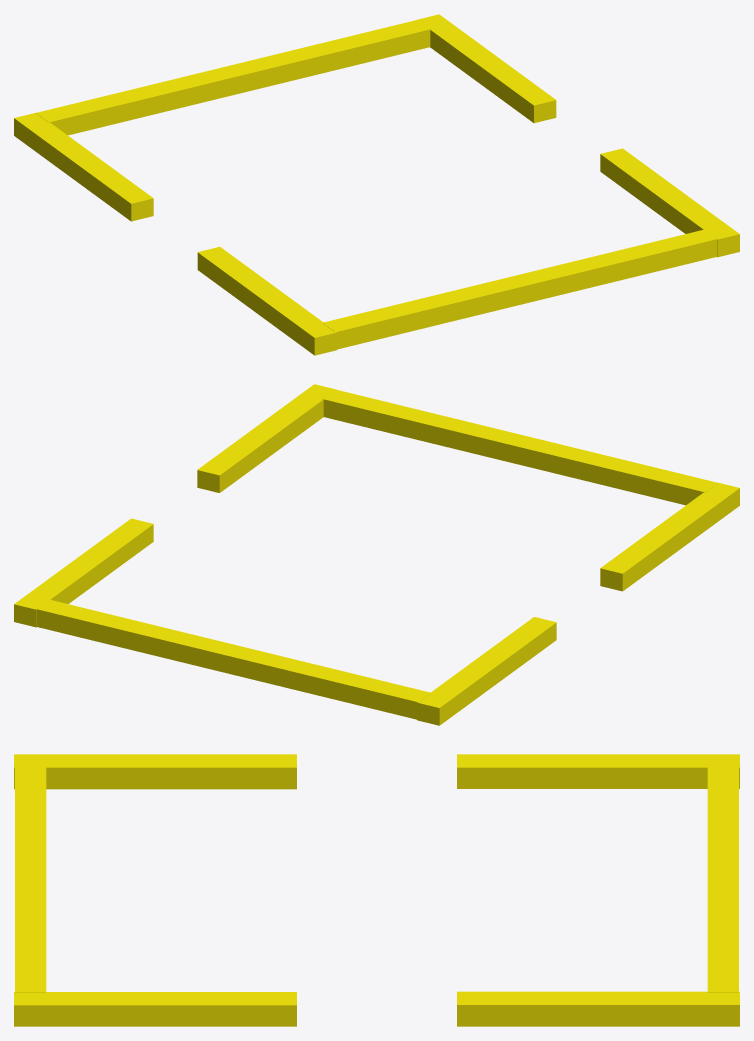
Rendered from Barda02.obj.
3 views of the same model, one above another, from view 1: azimuth 30°, elevation 25°; view 2: azimuth 150°, elevation 25°; view 3: azimuth 270°, elevation 25° (orthographic). The views are drawn at different scales.
Visible parts, largest first — view 1: Barda02; view 2: Barda02; view 3: Barda02.
Boxes of the visible parts, left/top/right/bottom form: Barda02: left=14, top=14, right=739, bottom=355; Barda02: left=14, top=384, right=739, bottom=725; Barda02: left=14, top=754, right=739, bottom=1026.
Size of the model in its own units: 14.36 by 0.5783 by 17.56.
